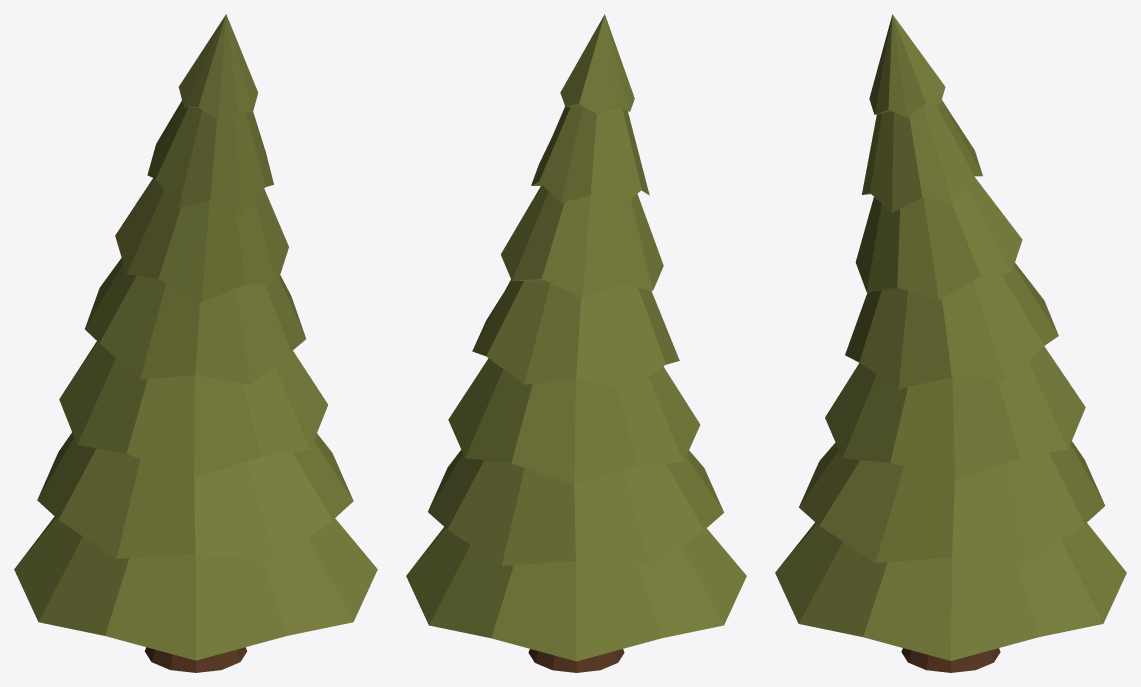
The model's file is Tree11.glb.
3 renders of one model, left to right at view 1: azimuth 30°, elevation 25°; view 2: azimuth 150°, elevation 25°; view 3: azimuth 270°, elevation 25°, orthographic. The views are drawn at different scales.
Visible parts, largest first — view 1: Tree13; view 2: Tree13; view 3: Tree13.
Part boxes in pixels (box(x1,y1,x2,y2)): Tree13: box(14, 14, 377, 672); Tree13: box(406, 14, 746, 672); Tree13: box(775, 14, 1126, 672).
Size of the model in its own units: 2.22 by 4.43 by 2.22.
